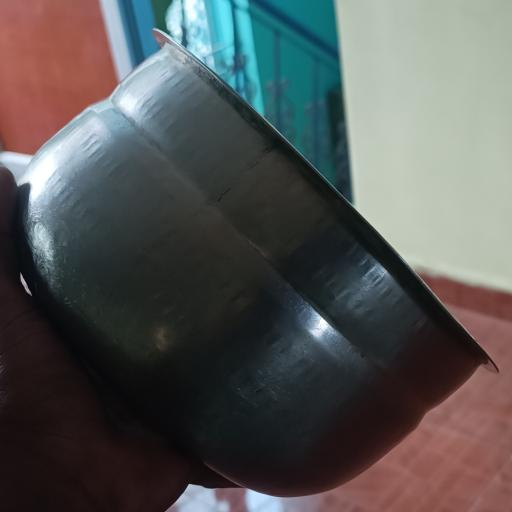vessel: (17, 31, 495, 495)
